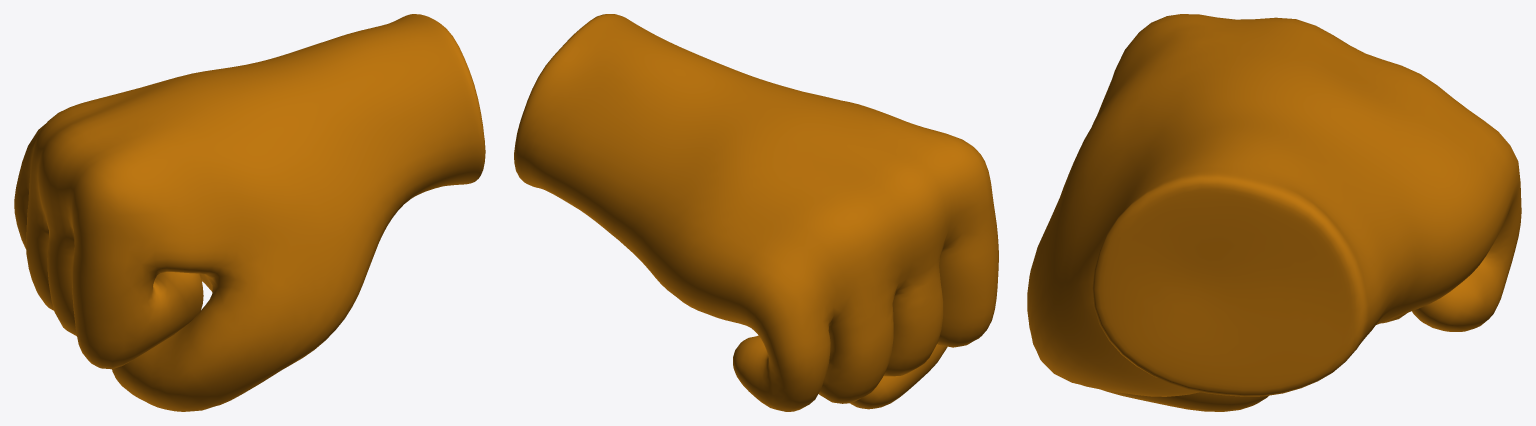
Rendered from fisted left.FBX.
3 renders of one model, left to right at view 1: azimuth 30°, elevation 25°; view 2: azimuth 150°, elevation 25°; view 3: azimuth 270°, elevation 25°, orthographic. The views are drawn at different scales.
Visible parts, largest first — view 1: Group12839; view 2: Group12839; view 3: Group12839.
Part boxes in pixels (box(x1,y1,x2,y2)): Group12839: box(14, 14, 485, 411); Group12839: box(514, 14, 998, 411); Group12839: box(1027, 14, 1521, 411).
Bounding box in the file's own units: 18.11 × 13.17 × 14.31.
